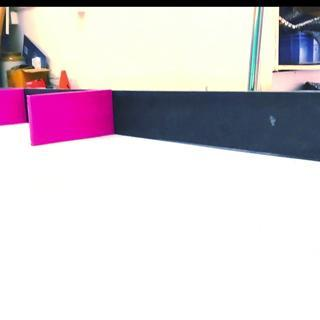xparking: (29, 93, 113, 134), (1, 89, 24, 122)
